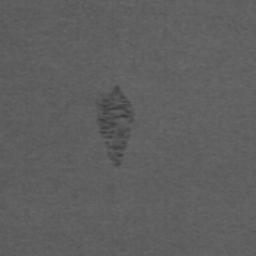Secondary rust skin: (95, 85, 134, 167)
